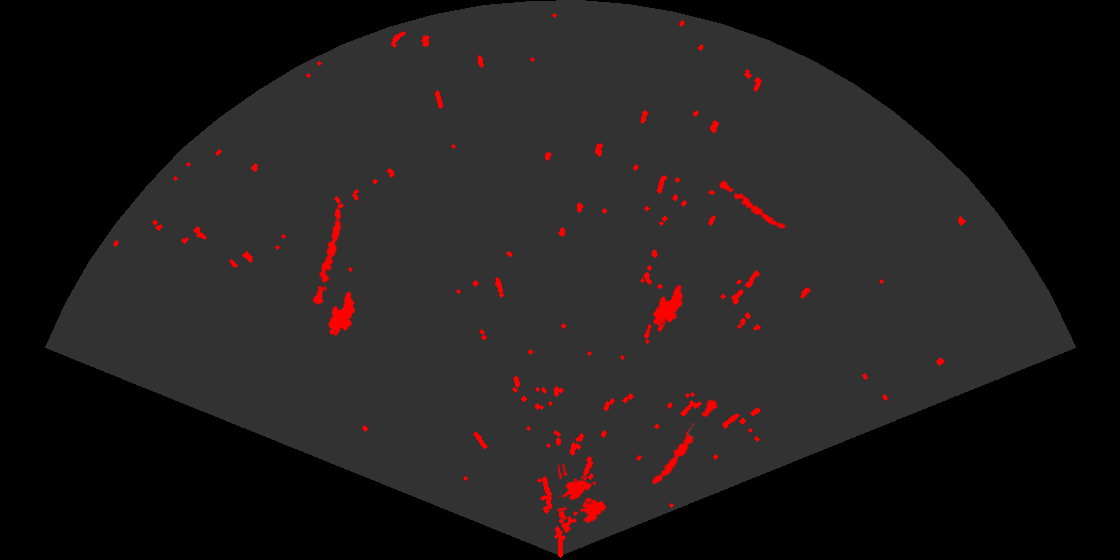AUV: (652, 283, 685, 328), (327, 290, 357, 338)
cage: (558, 464, 608, 525)
chain: (650, 398, 719, 486), (708, 173, 787, 230), (311, 207, 343, 307)
